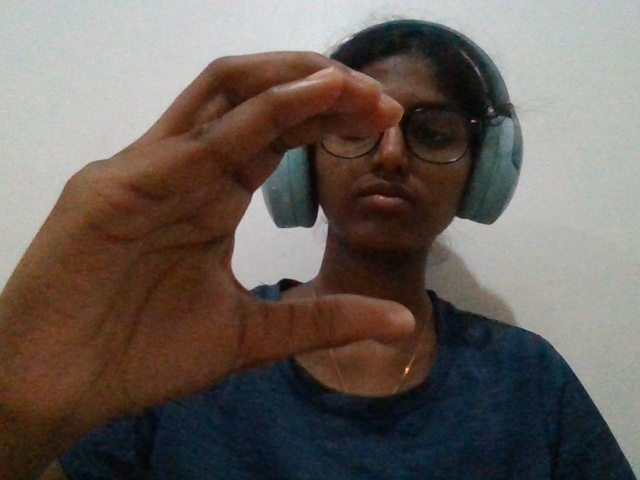C: (1, 30, 421, 470)
